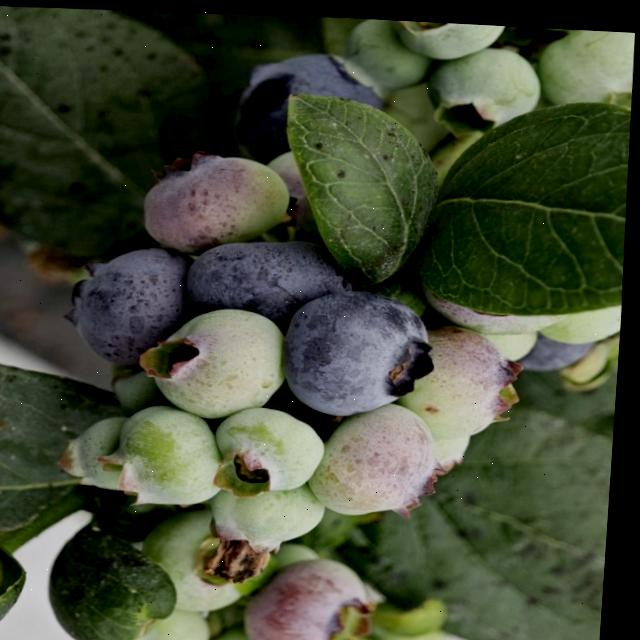RipeBlueBerry: (281, 280, 443, 416), (236, 44, 389, 158), (68, 239, 201, 370), (184, 229, 355, 319)
Semi-RipeBlueBerry: (138, 146, 296, 252), (314, 396, 453, 516), (248, 549, 385, 640)
UnripeBlueBerry: (150, 298, 294, 418), (407, 318, 523, 436), (145, 499, 263, 611), (112, 399, 230, 505), (213, 400, 331, 494), (420, 38, 543, 127), (210, 474, 333, 555)
